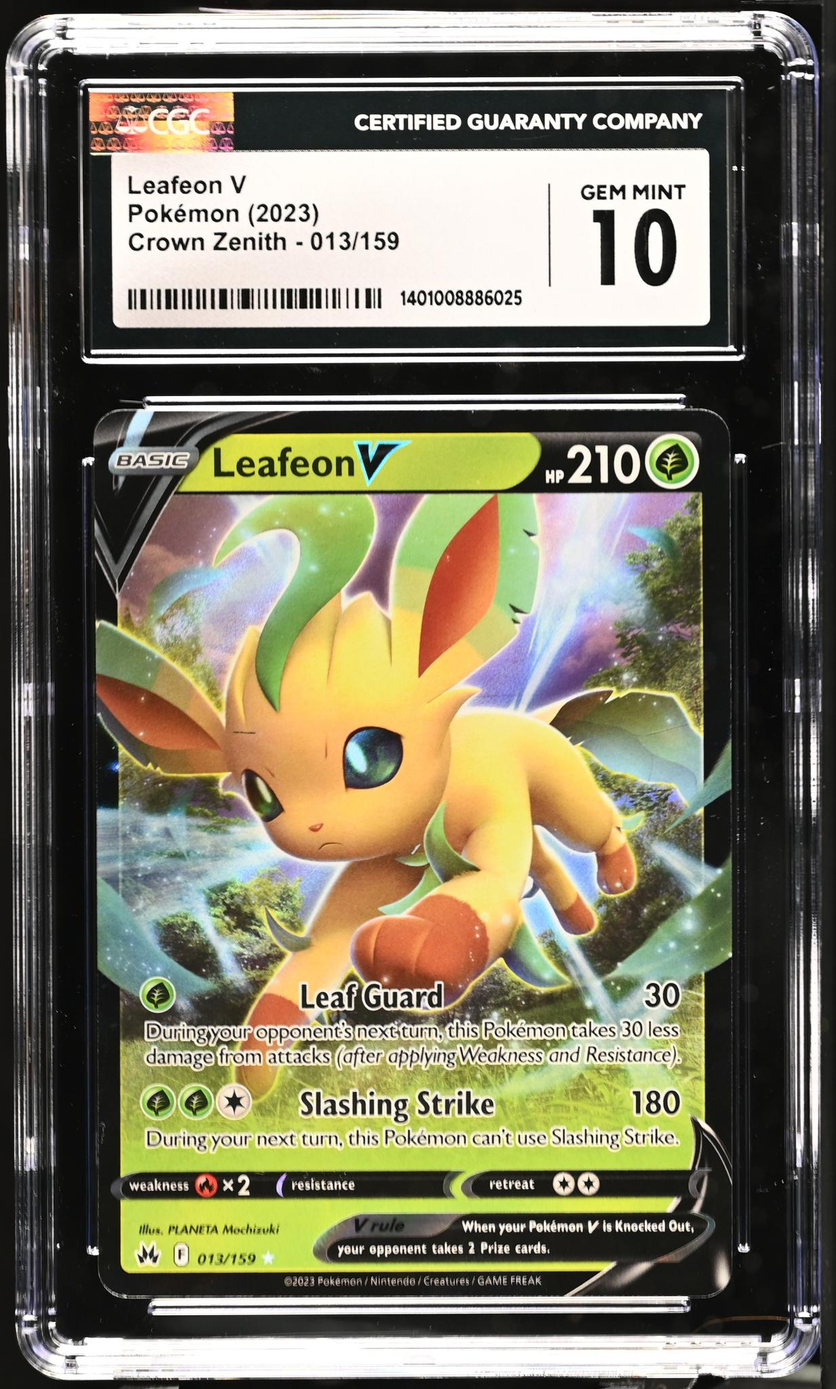card-2UtV: (93, 408, 733, 1299)
